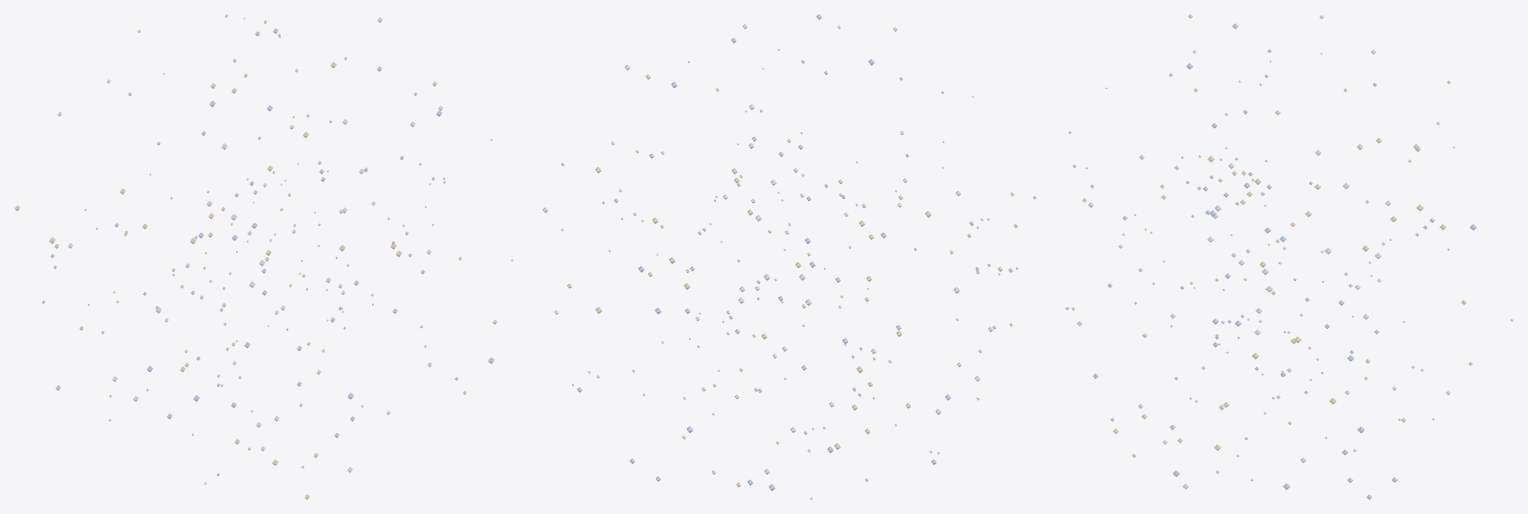
3 renders of one model, left to right at view 1: azimuth 30°, elevation 25°; view 2: azimuth 150°, elevation 25°; view 3: azimuth 270°, elevation 25°, orthographic. The views are drawn at different scales.
Size of the model in its own units: 4.79 by 4.83 by 4.44.
